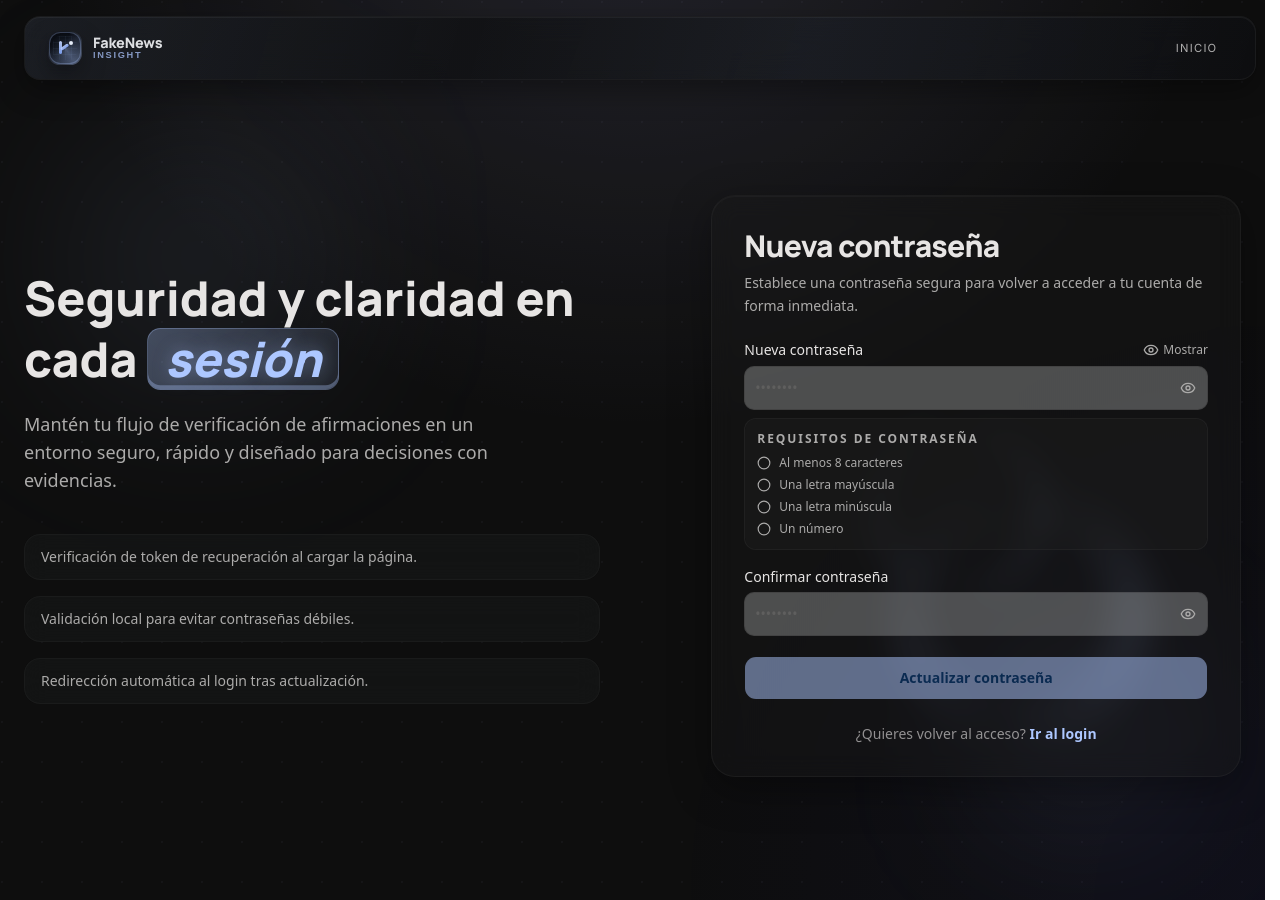
Test: <ResetPassword /> › bloquea contraseñas débiles antes de invocar updatePassword
Type "weakpass" into the password field labelled "Nueva contraseña" at (976,388), box [744,366,1208,410]
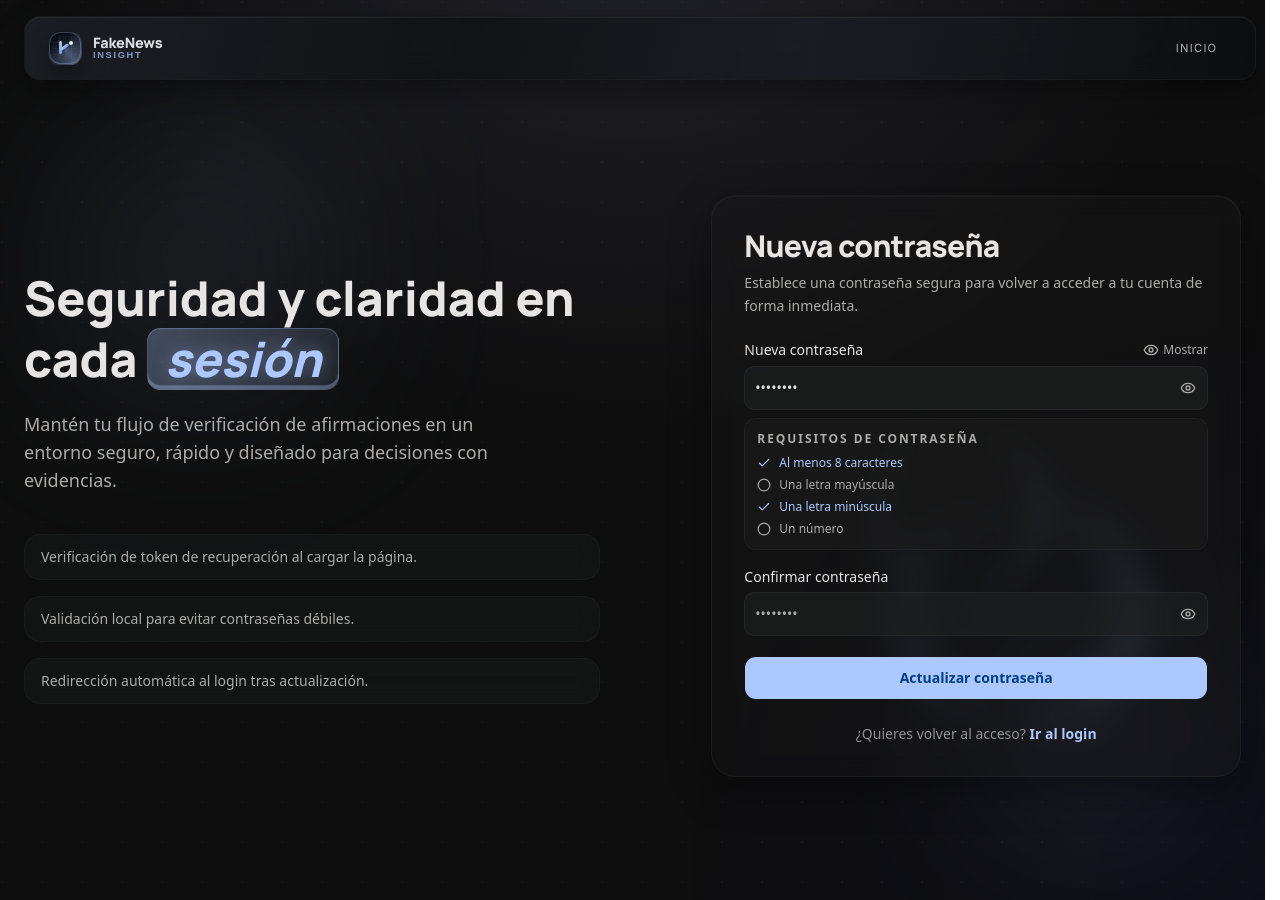
Type "weakpass" into the password field labelled "Confirmar contraseña" at (976,614), box [744,592,1208,636]
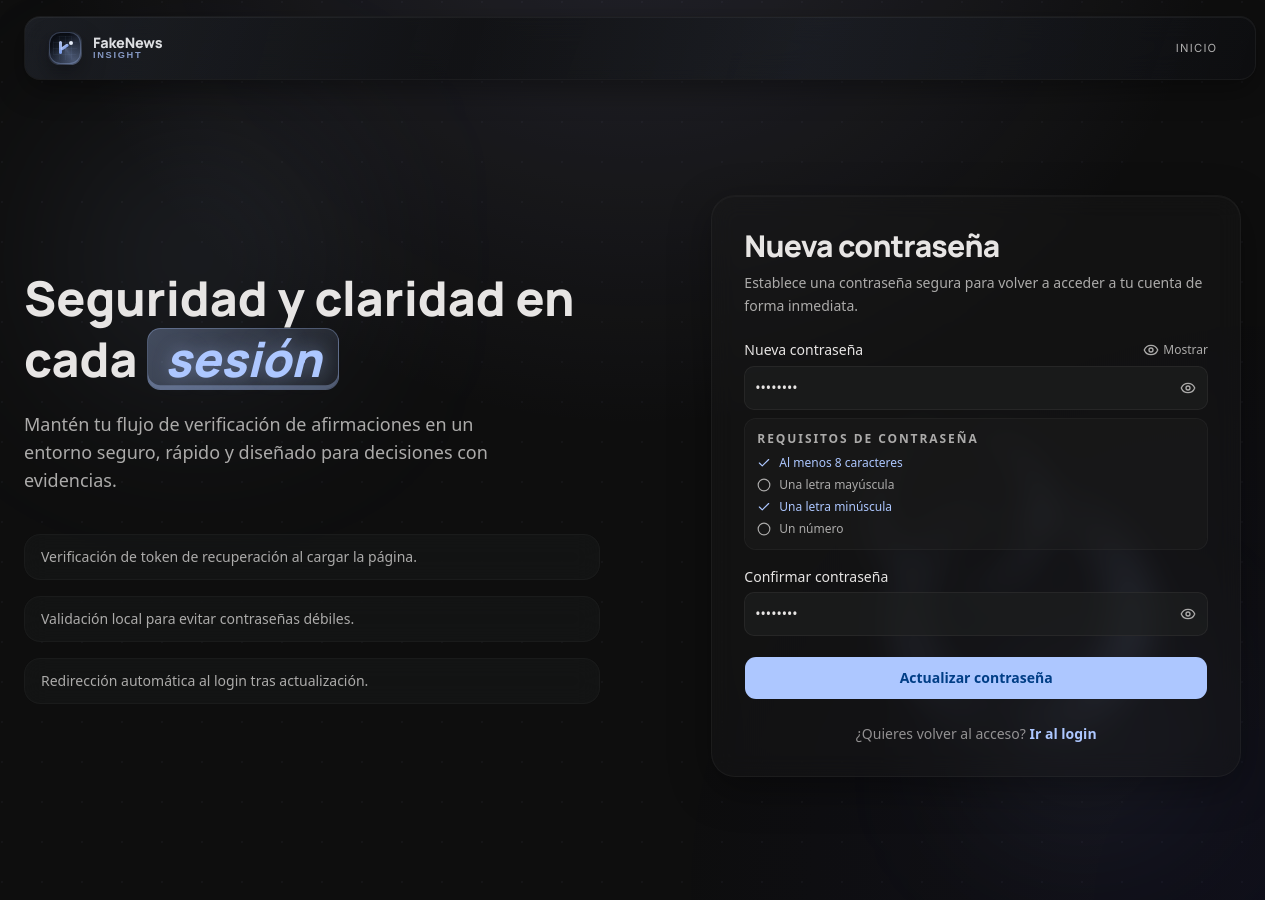
Click the button "Actualizar contraseña" at (976,678), box [744,656,1208,700]
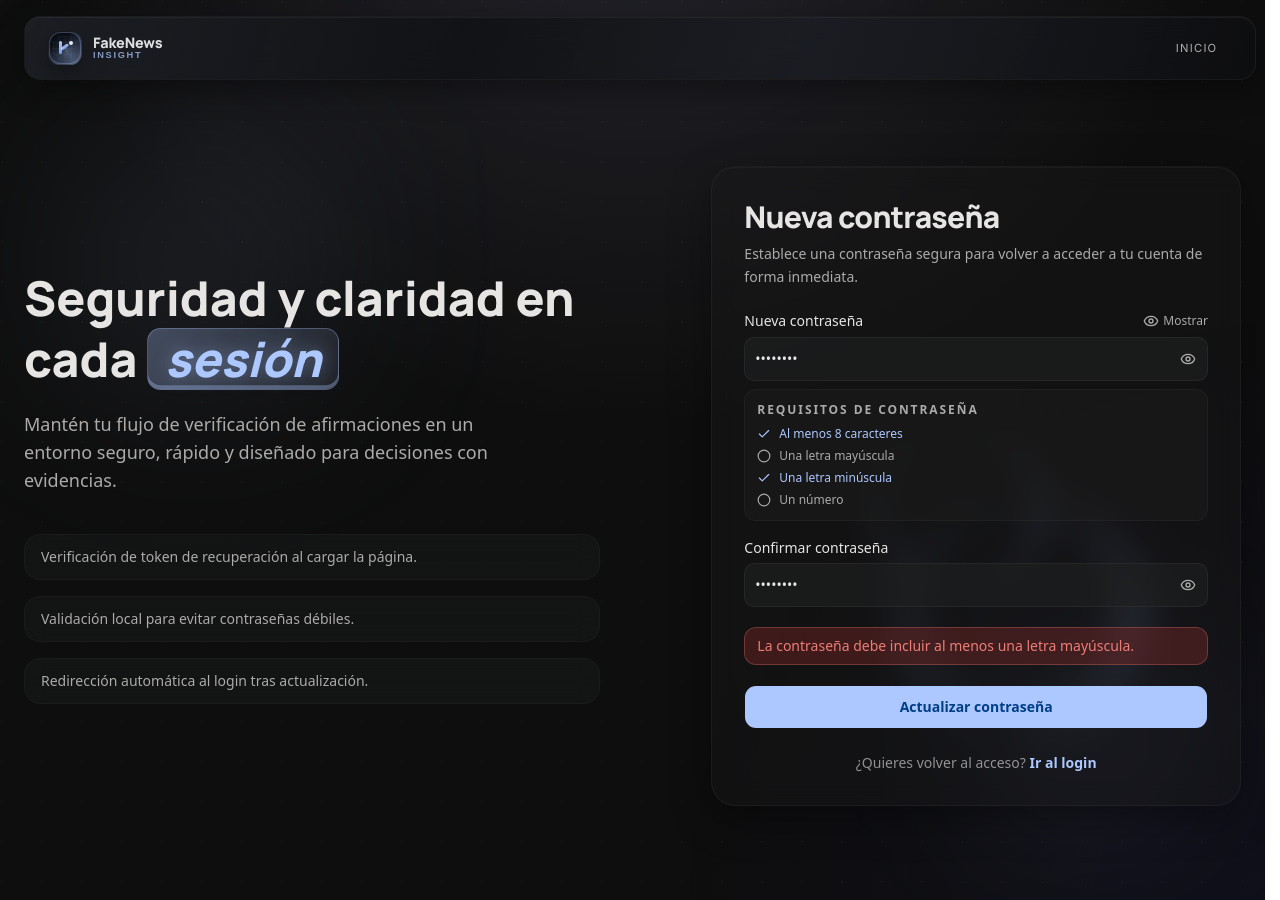
Result: the message reads "La contraseña debe incluir al menos una letra mayúscula." at [757,636,1134,655]
